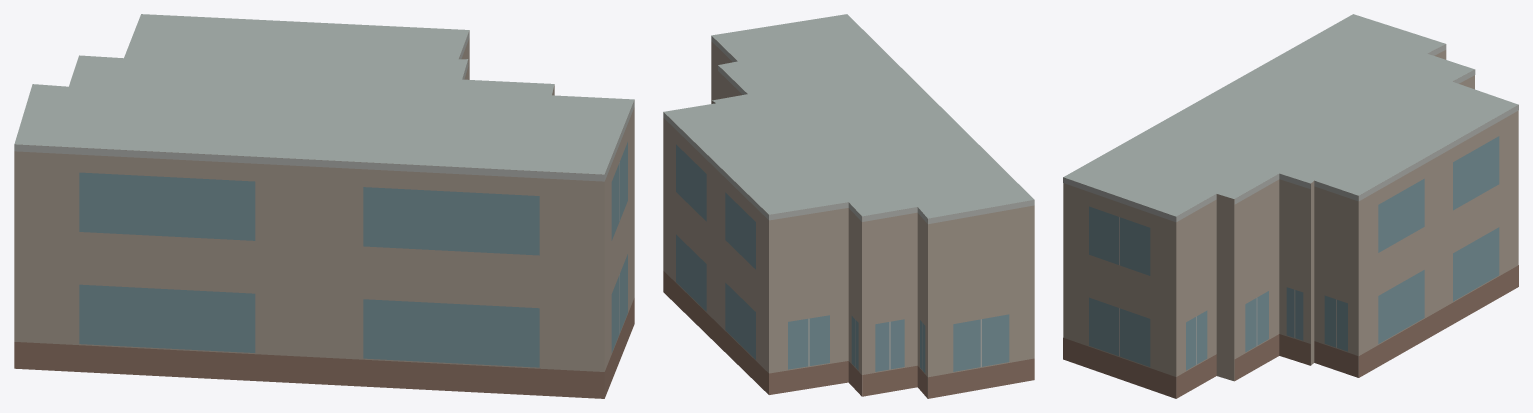
Rendered from survey-upis-32931138.glb.
The picture shows the model from 3 angles, left to right: view 1: azimuth 30°, elevation 25°; view 2: azimuth 150°, elevation 25°; view 3: azimuth 270°, elevation 25°; orthographic projection. The views are drawn at different scales.
Parts seen in each view (by area): view 1: survey-upis-32931138.tmp; view 2: survey-upis-32931138.tmp; view 3: survey-upis-32931138.tmp.
Part boxes in pixels (x1,y1,x2,y2): survey-upis-32931138.tmp: (14, 14, 634, 398); survey-upis-32931138.tmp: (663, 14, 1034, 398); survey-upis-32931138.tmp: (1063, 14, 1518, 398).
Bounding box in the file's own units: 18.62 × 7.8 × 17.68.
